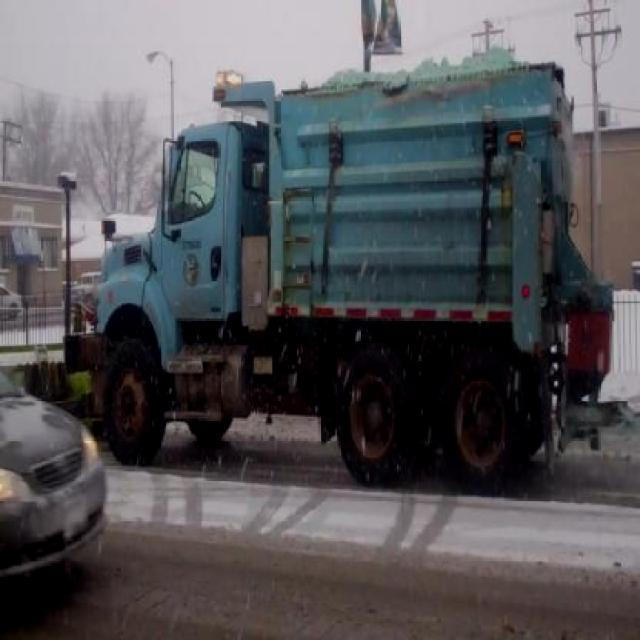Car: (0, 341, 141, 601)
Truck: (102, 39, 614, 486)
